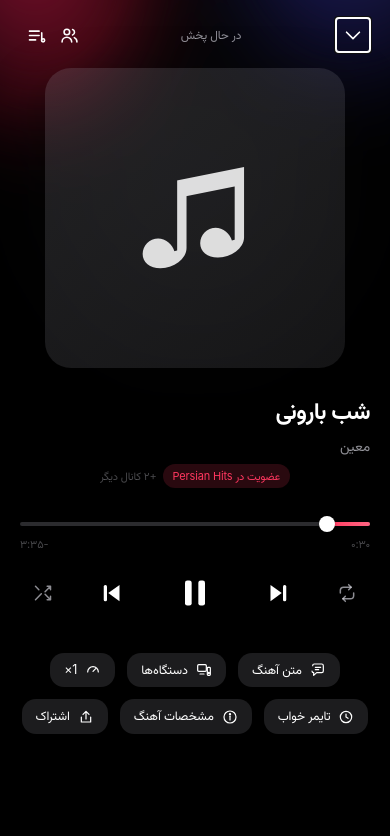
Test case: the queue sheet › does not put five hundred rows in the DOM at once
Step 1. Click the button named "صف پخش" → (36, 35), box [20,18,53,52]
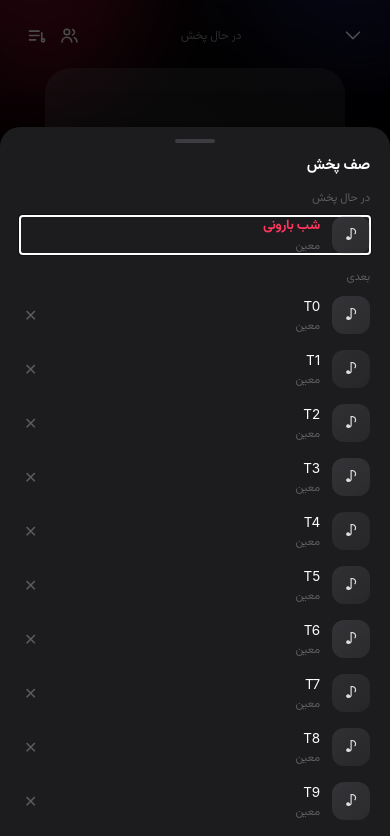
Expected: the list item "♪ T0 معین ✕" is shown, [16,290,374,340]
